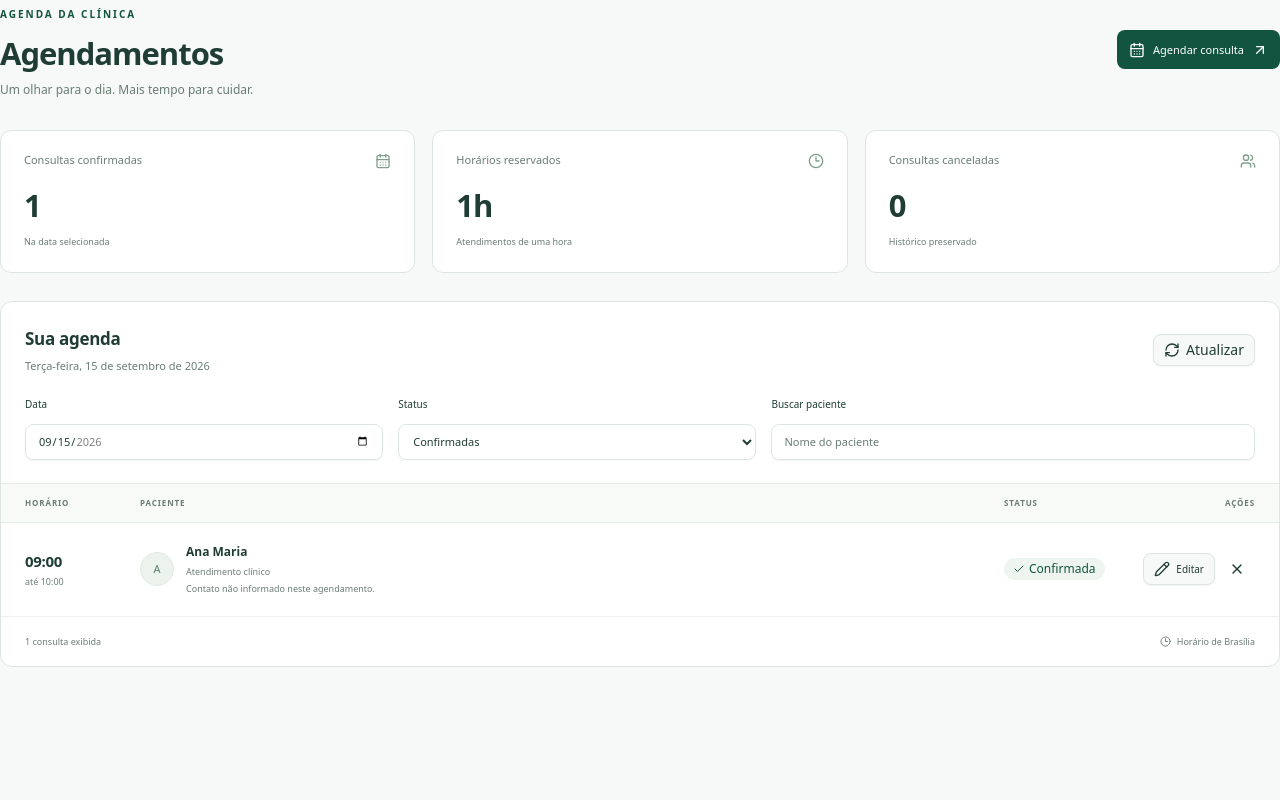
saves name-only edits when the holiday provider is unavailable
Step 1. Click the button with aria-label "Editar consulta de Ana Maria" → click(1179, 569), box [1143,553,1215,585]
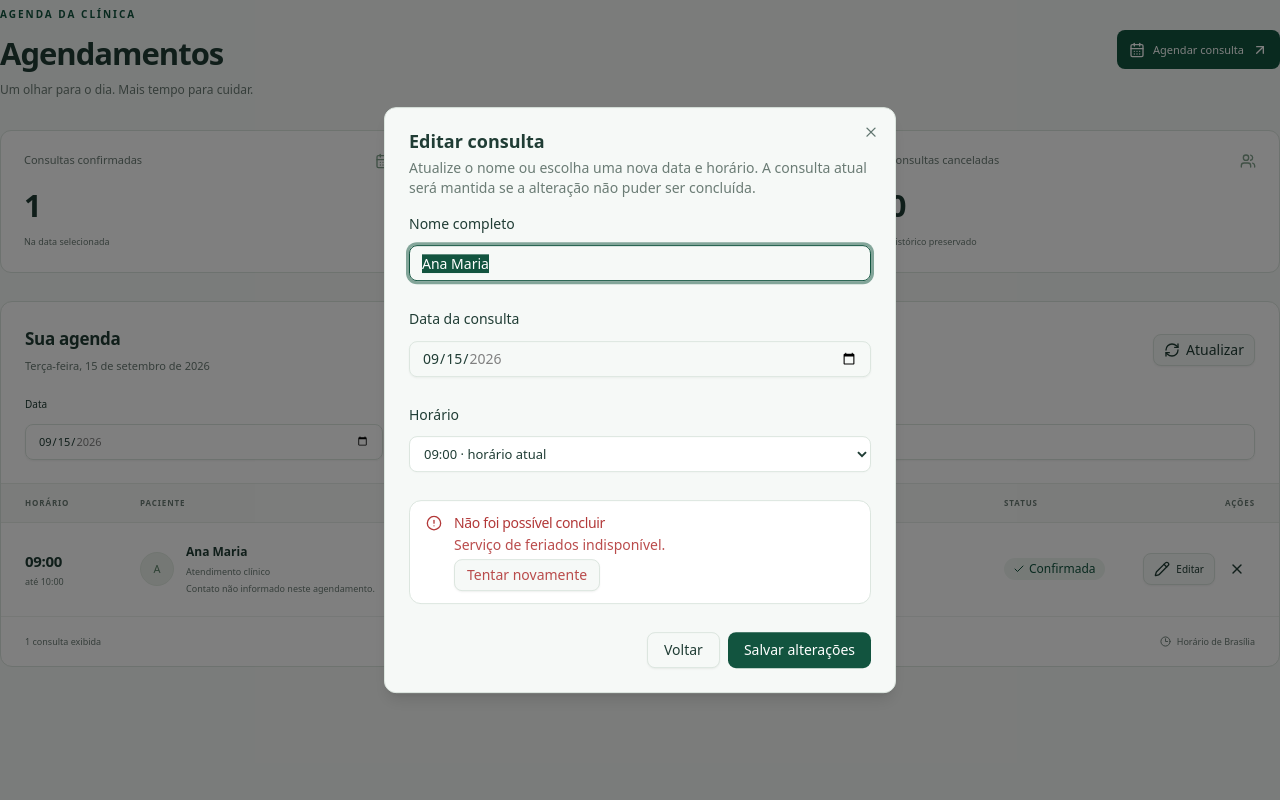
Check: the text "Serviço de feriados indisponível." is shown, box [454,535,665,554]
Step 2. Replace the text in the field labelled "Nome completo" with "Ana Silva" → (640, 263), box [409,245,871,281]
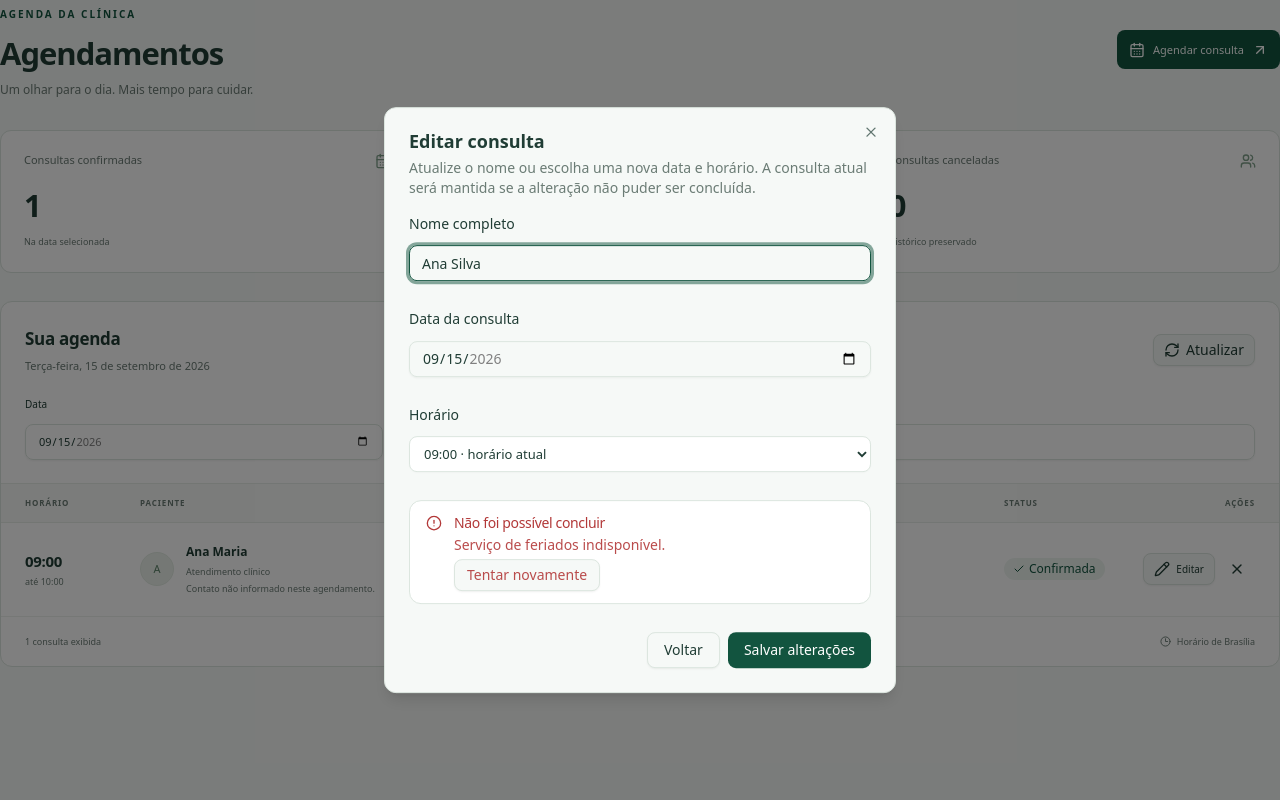
Check: the button "Salvar alterações" is enabled
Step 3. Click the button "Salvar alterações" → click(799, 650), box [728,632,871,668]
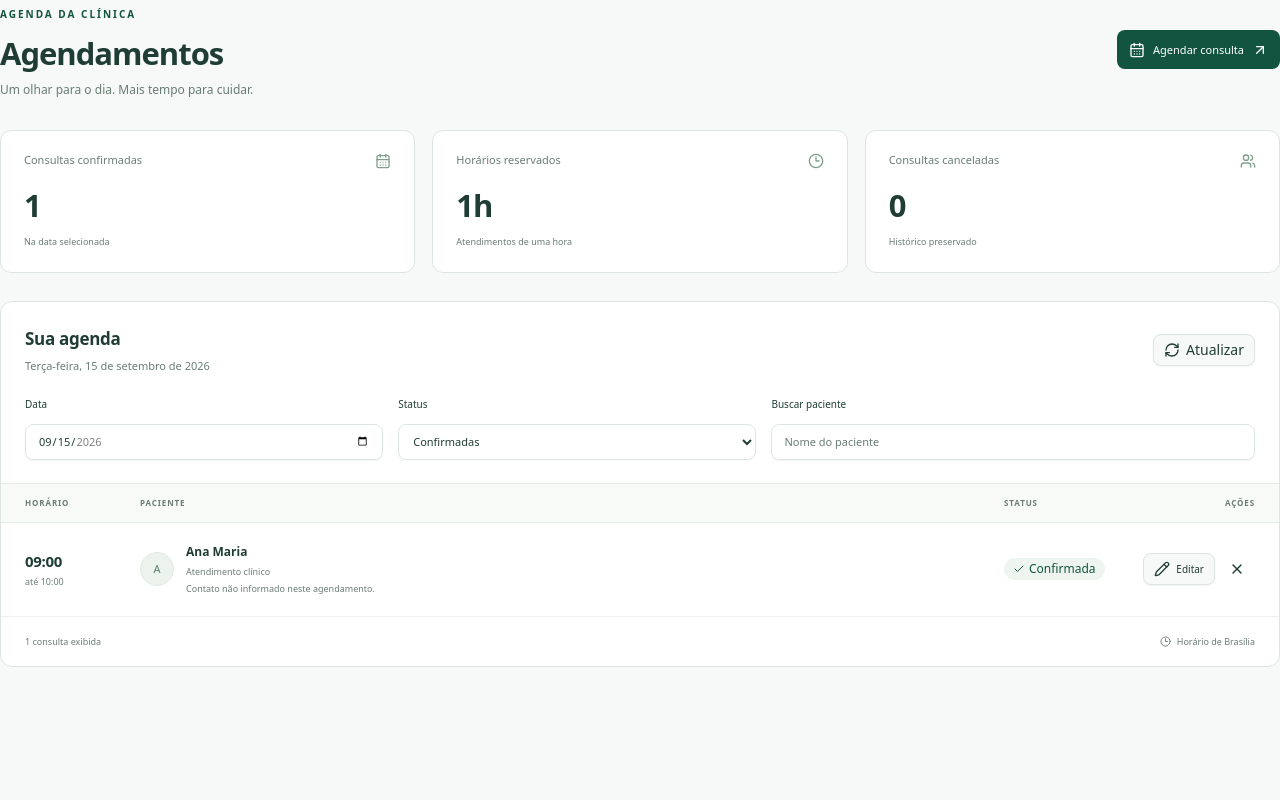
Check: the dialog is gone
